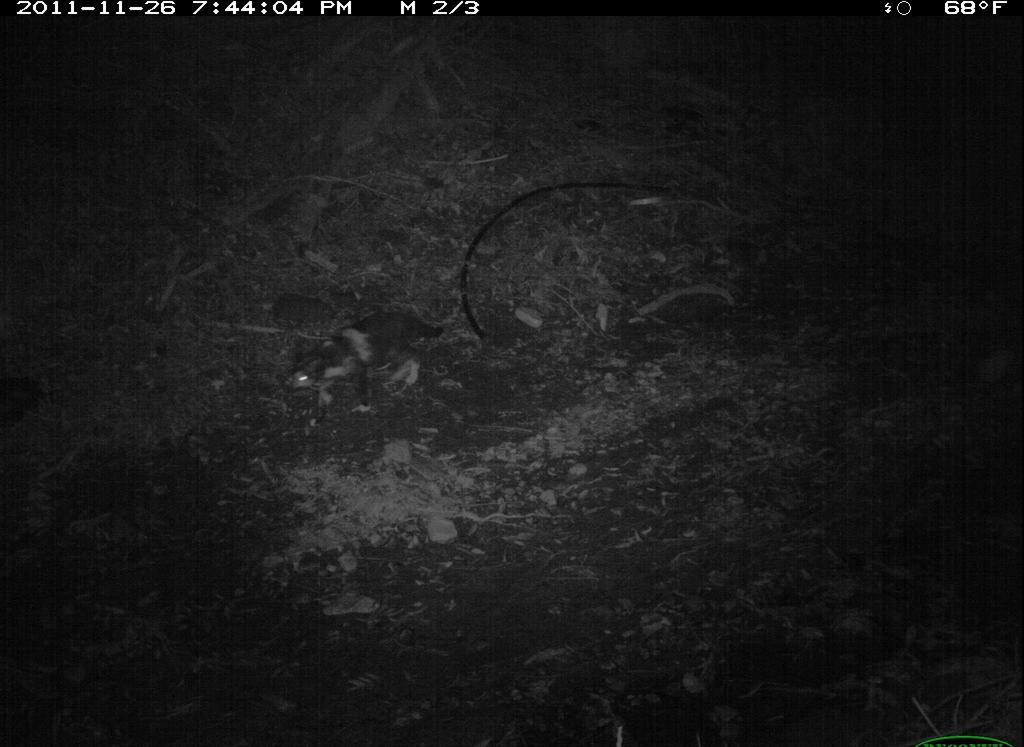cat: (272, 301, 446, 432)
